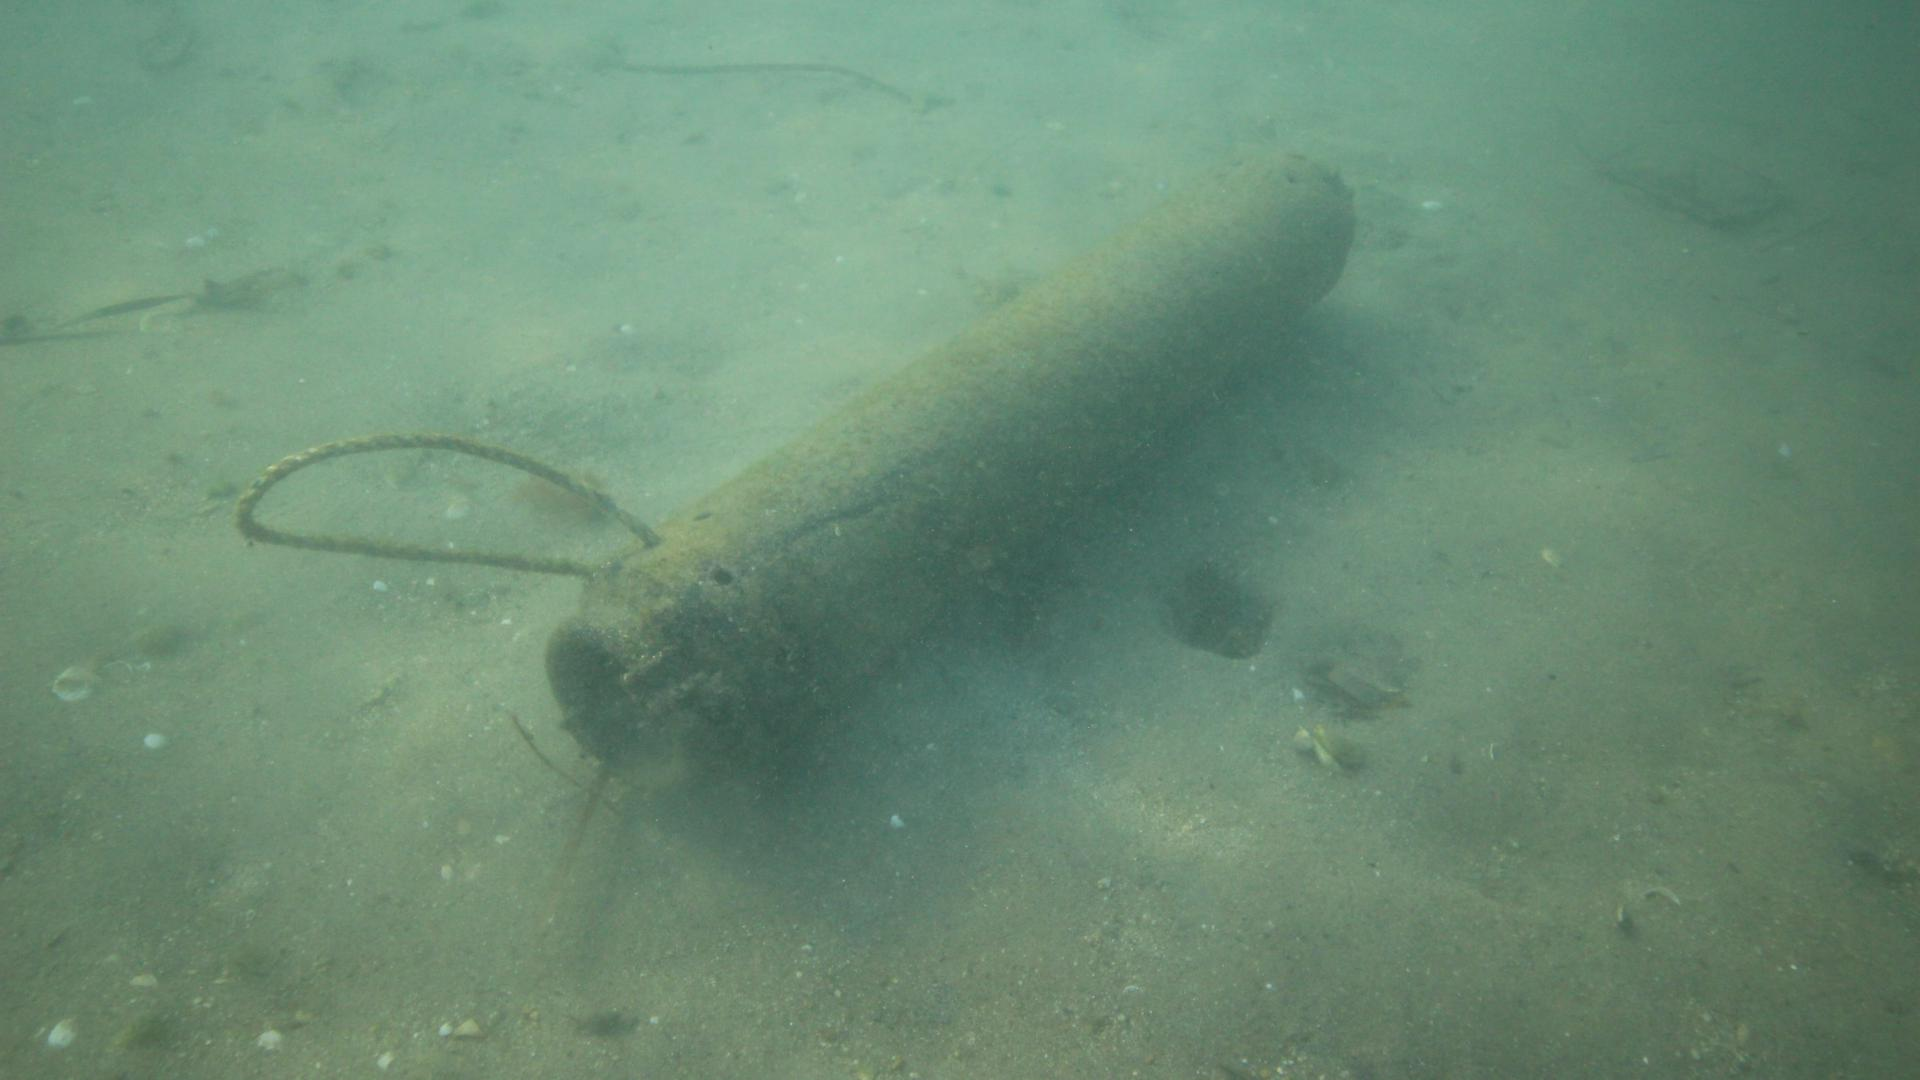eel fish trap: (541, 152, 1353, 790)
rope: (232, 431, 661, 579)
